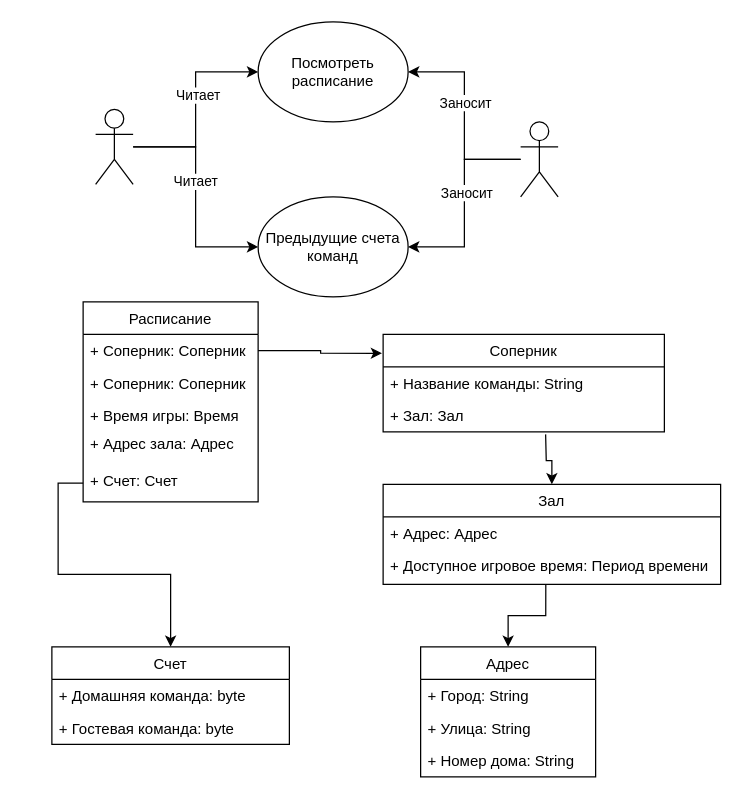
Some shapes in this 743 by 803 pixel diagram are drawn without their labels. Each missing label, with the centre of its shape:
Админ: the point at 538,159
Интересуется волейболом: the point at 113,146
